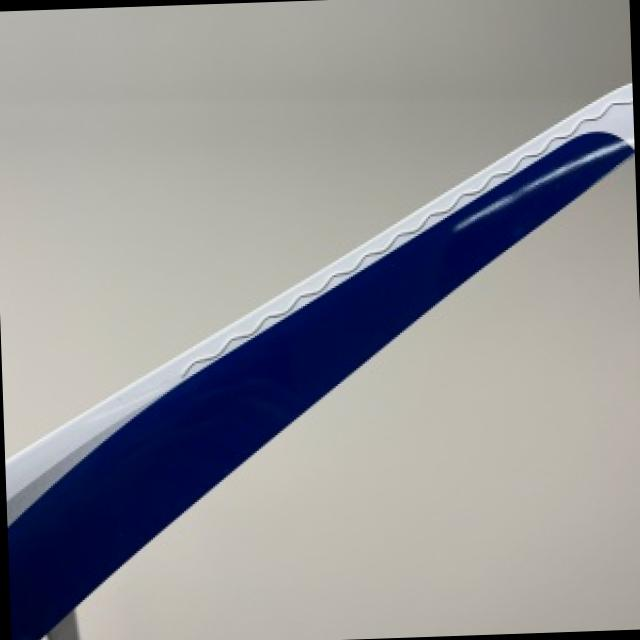healthy: (7, 83, 634, 640)
